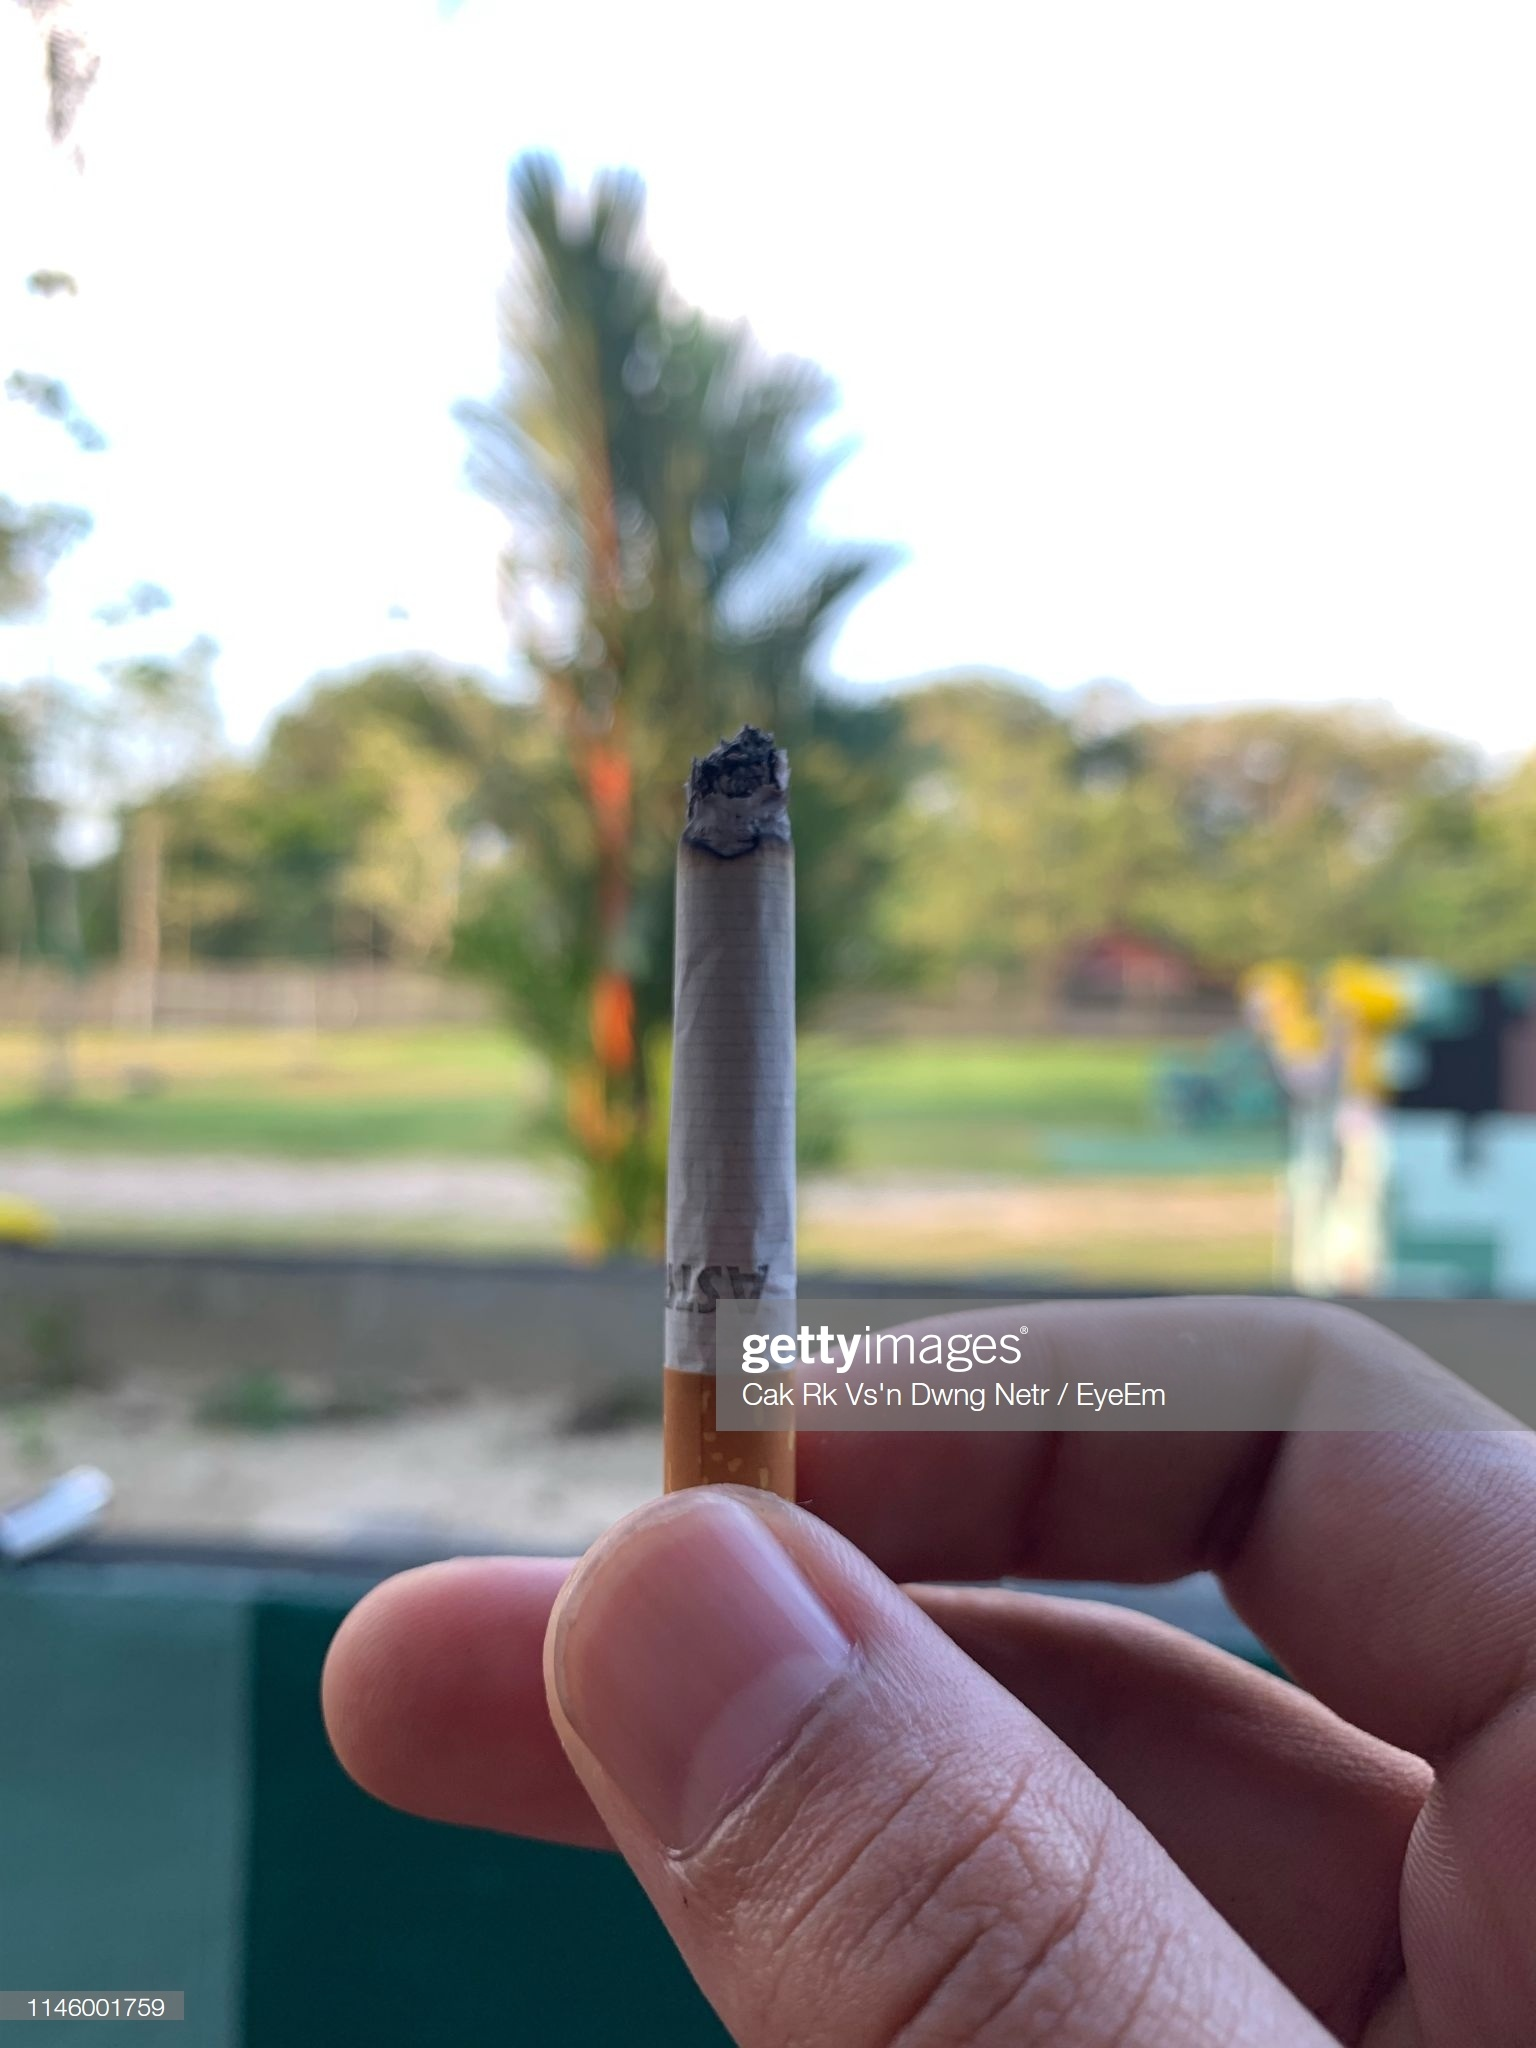sigaretta: (660, 755, 794, 1514)
